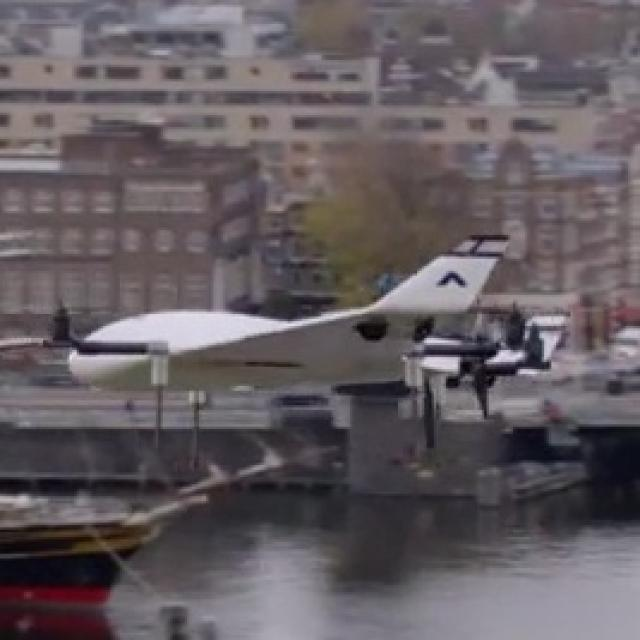iha: (74, 230, 570, 415)
